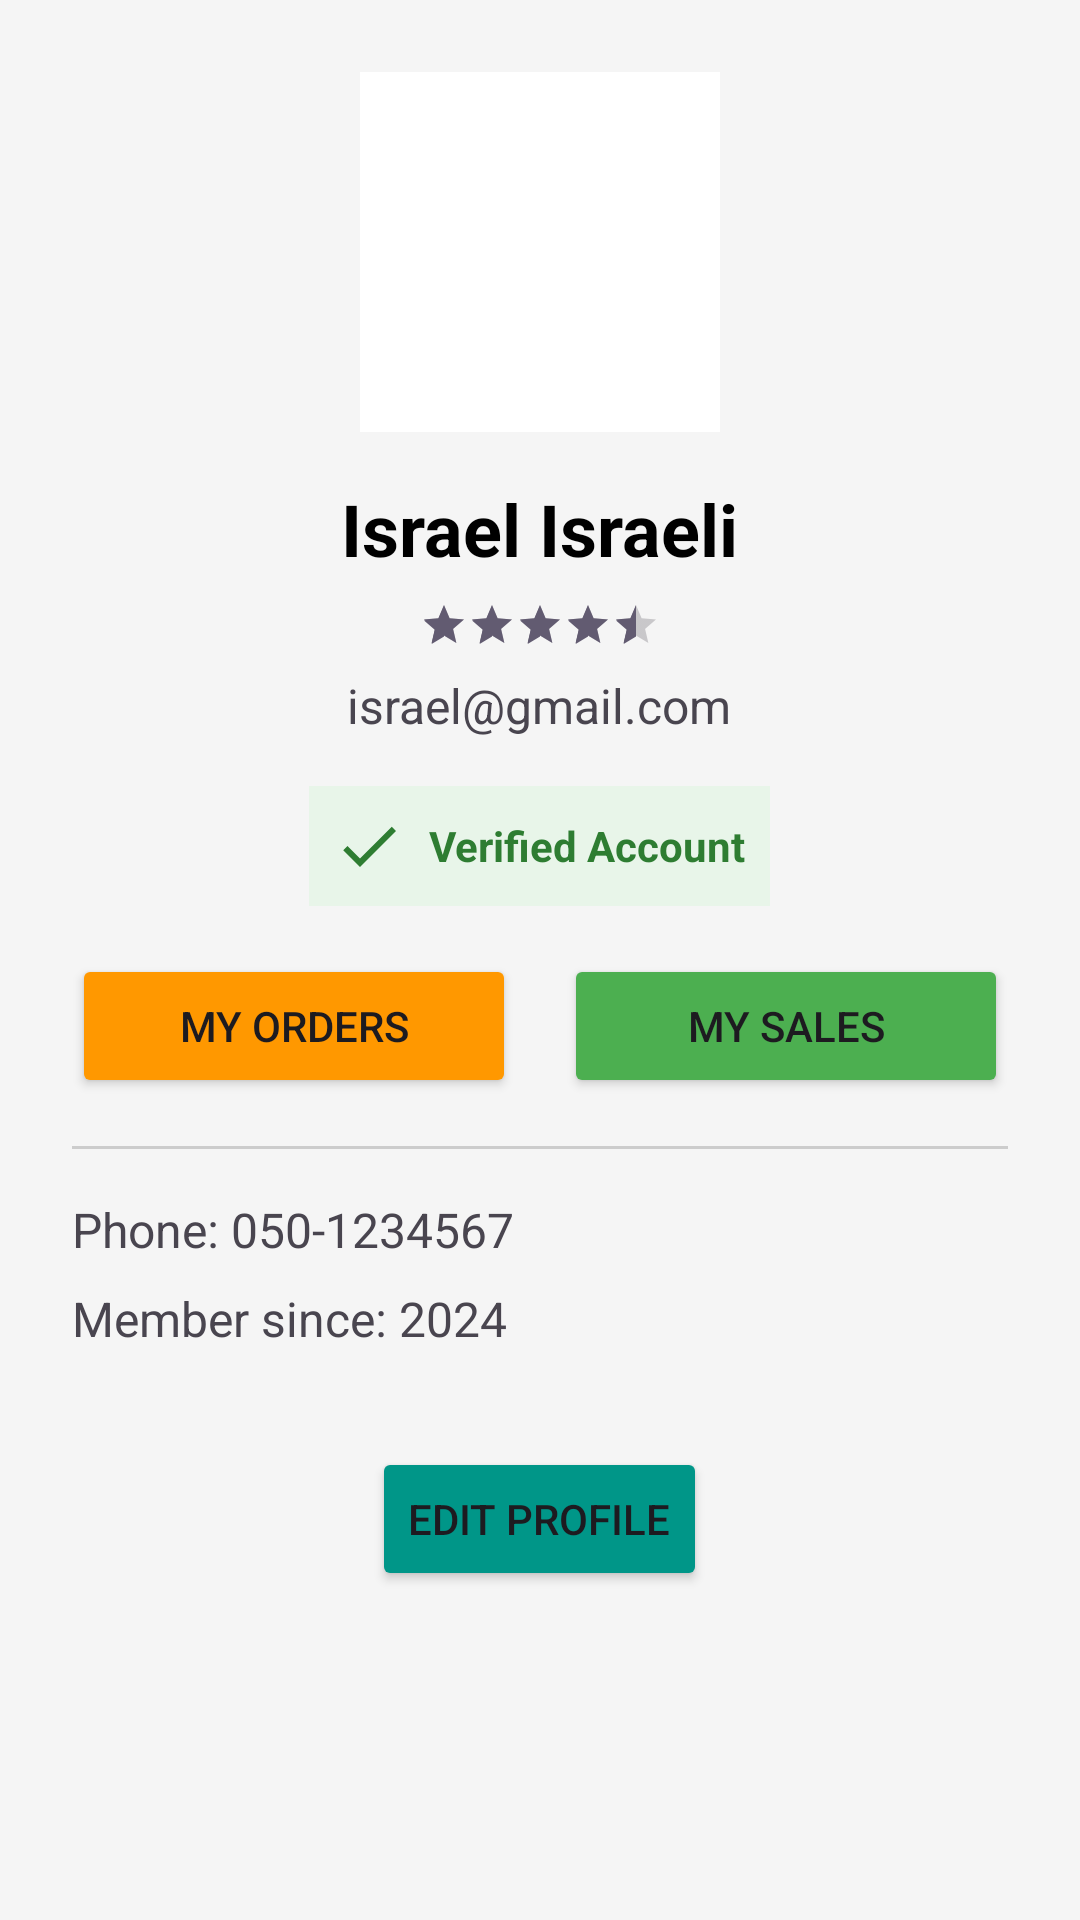

Icons on this 1080px x 1920px Android screen, each with the point to tap as (x=x, y=y):
check: (x=369, y=847)
